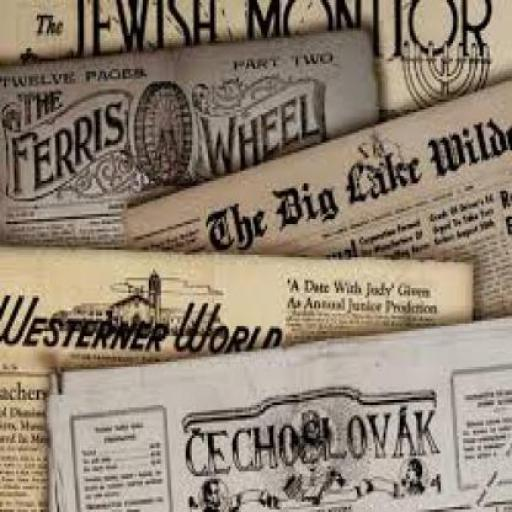paper: (0, 241, 471, 510), (45, 316, 510, 510), (123, 81, 510, 314), (0, 26, 378, 244), (0, 0, 511, 121)
